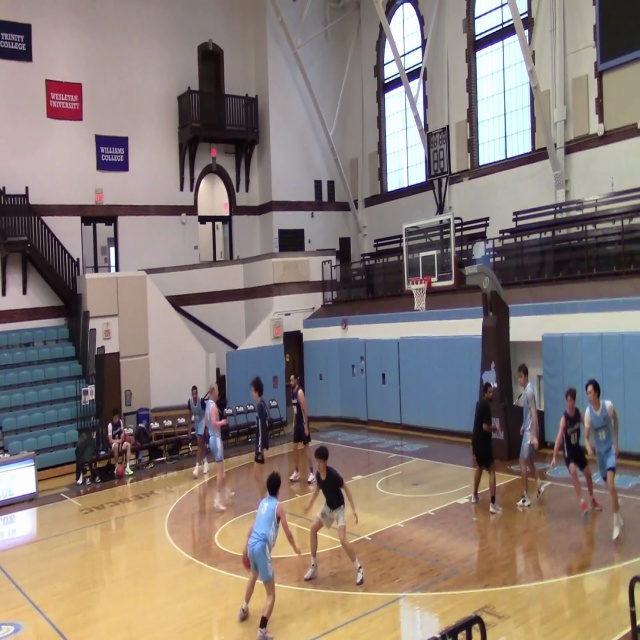Basketball: (114, 464, 124, 478), (243, 554, 251, 569)
